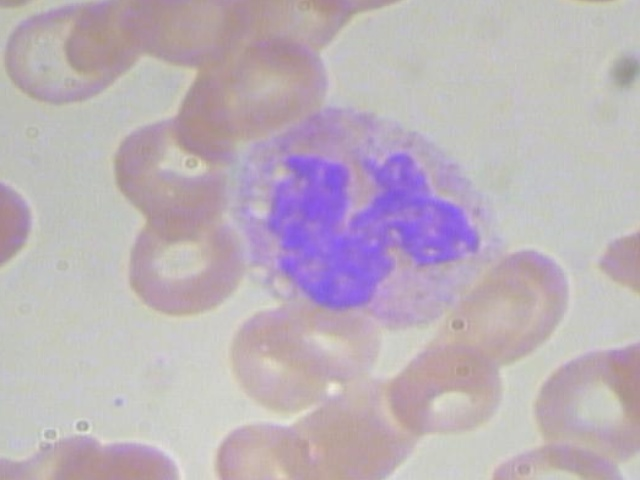RBC: (115, 200, 244, 324), (523, 339, 640, 469), (0, 158, 46, 280)
WBC: (219, 93, 512, 334)
